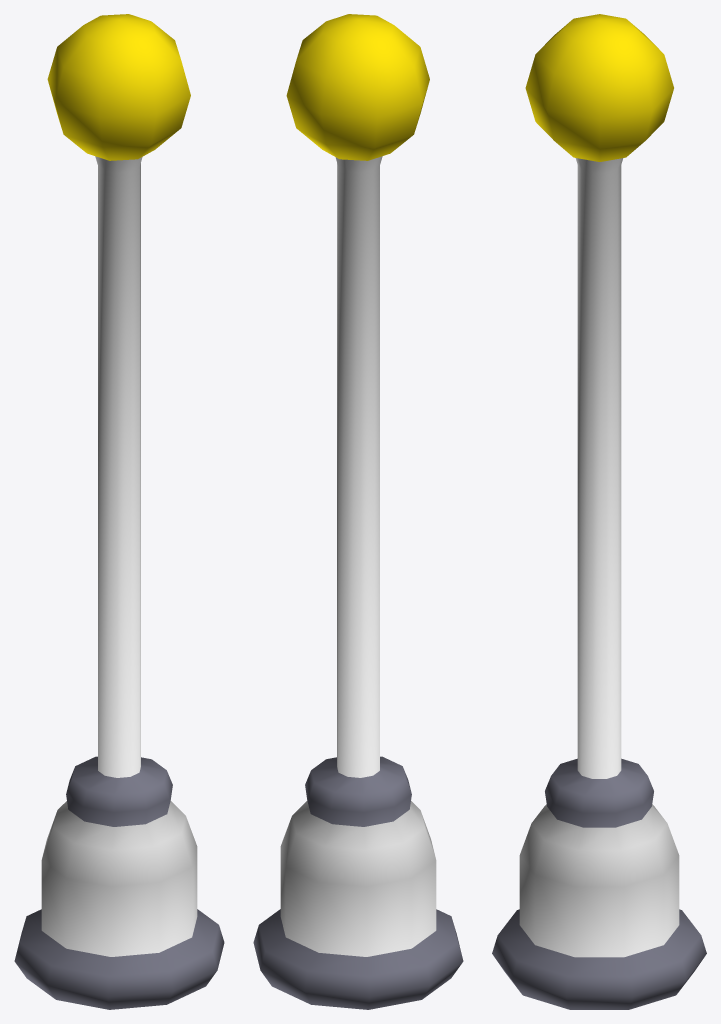
Rendered from LightRod.fbx.
3 views of the same model, side by side, from view 1: azimuth 30°, elevation 25°; view 2: azimuth 150°, elevation 25°; view 3: azimuth 270°, elevation 25° (orthographic).
Visible parts, largest first — view 1: LightRod; view 2: LightRod; view 3: LightRod.
Part boxes in pixels (<box>): LightRod: <box>14,14,224,1009</box>; LightRod: <box>253,14,463,1009</box>; LightRod: <box>492,14,706,1009</box>.
Size of the model in its own units: 174 by 891 by 183.
